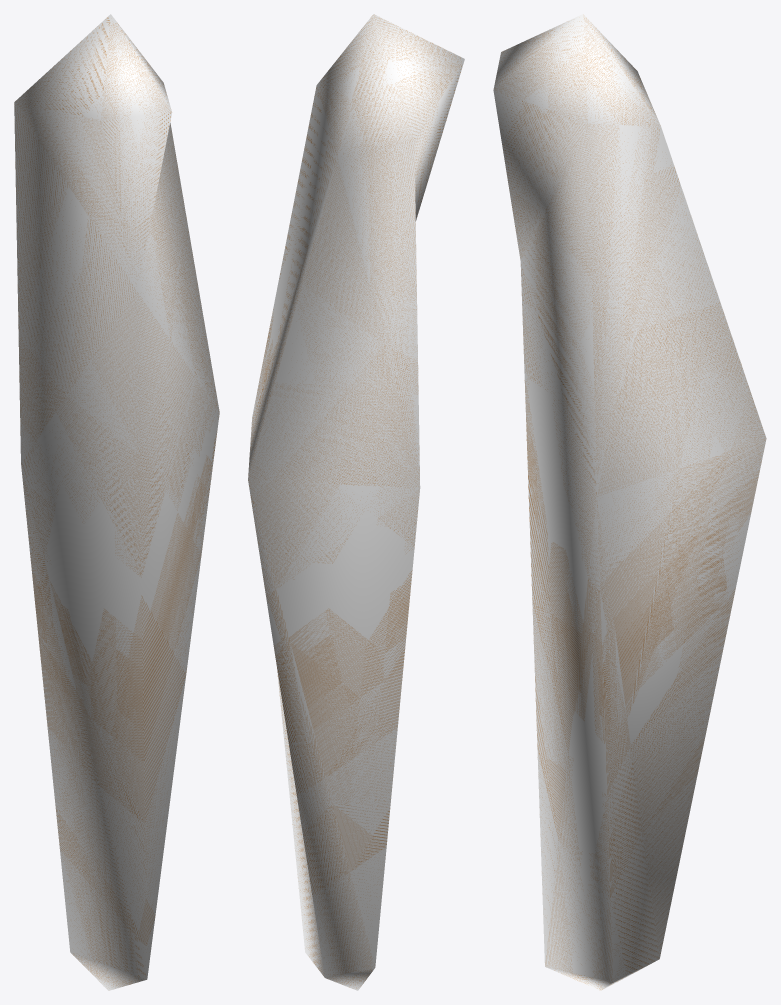
The model's file is fLCalf.dae.
3 views of the same model, side by side, from view 1: azimuth 30°, elevation 25°; view 2: azimuth 150°, elevation 25°; view 3: azimuth 270°, elevation 25° (orthographic).
Visible parts, largest first — view 1: group_2; view 2: group_2; view 3: group_2.
Boxes of the visible parts, x1,y1,x2,y2 form: group_2: [14, 14, 219, 990]; group_2: [248, 14, 464, 990]; group_2: [493, 14, 766, 990].
Size of the model in its own units: 15.19 by 19.65 by 77.31.
